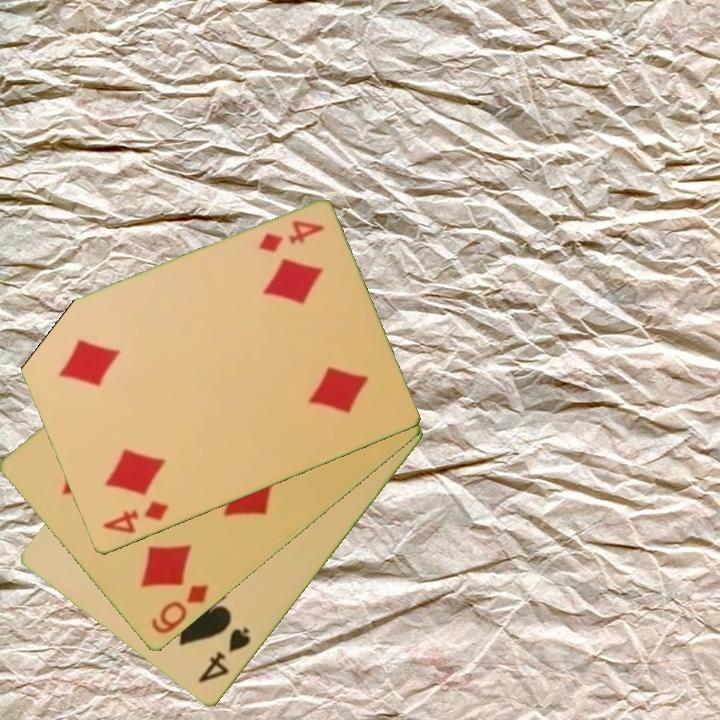4d: (98, 497, 171, 538), (255, 217, 327, 256)
4s: (195, 624, 254, 687)
6d: (147, 581, 212, 638)
